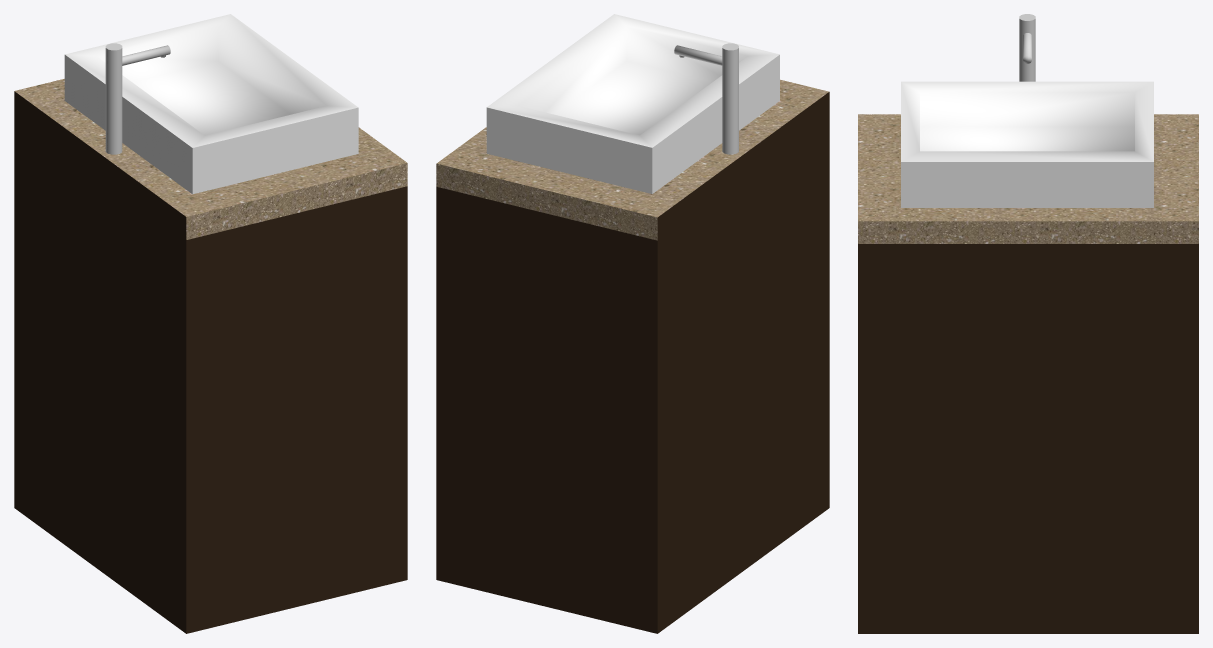
3 views of the same model, side by side, from view 1: azimuth 30°, elevation 25°; view 2: azimuth 150°, elevation 25°; view 3: azimuth 270°, elevation 25° (orthographic).
Visible parts, largest first — view 1: SketchUp (×2), Modern_rectangular_sink (×2), Faucet_Half; view 2: SketchUp (×2), Modern_rectangular_sink (×2), Faucet_Half; view 3: SketchUp (×2), Modern_rectangular_sink (×2).
Boxes of the visible parts, x1,y1,x2,y2 form: SketchUp (×2): (14,79,407,633); Modern_rectangular_sink (×2): (64,14,358,194); Faucet_Half: (107,45,122,154); SketchUp (×2): (436,79,829,633); Modern_rectangular_sink (×2): (486,14,779,193); Faucet_Half: (722,45,737,154); SketchUp (×2): (858,114,1198,633); Modern_rectangular_sink (×2): (901,81,1153,207).
Bounding box in the file's own units: 20 × 26.94 × 45.
Materials: 4 (1 with a texture image).
